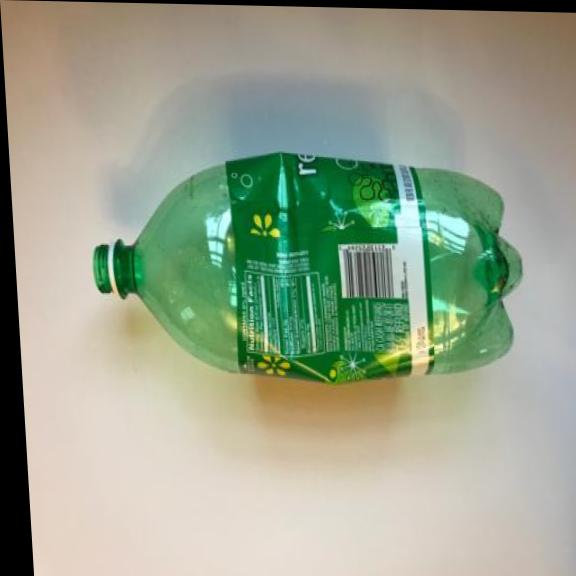Plastik: (80, 131, 538, 404)
